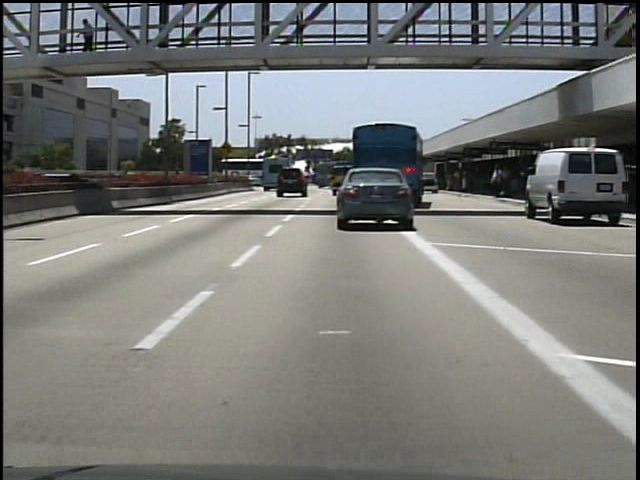person: (79, 17, 101, 64), (492, 162, 508, 199)
